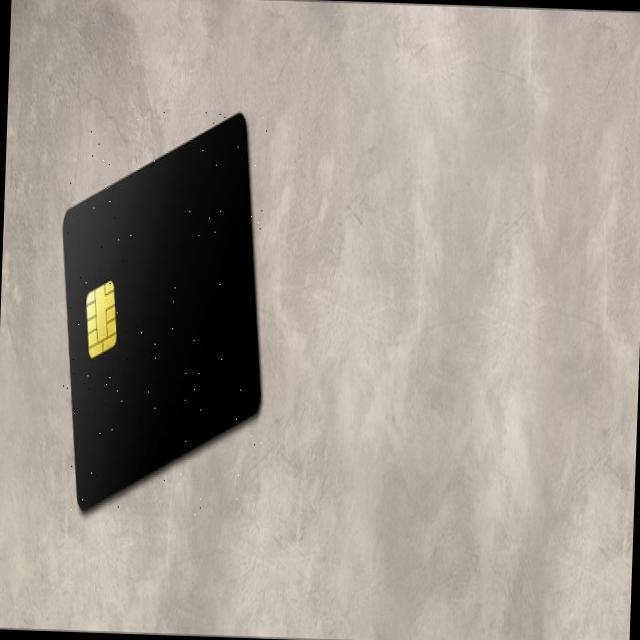payment_card: (60, 111, 262, 510)
